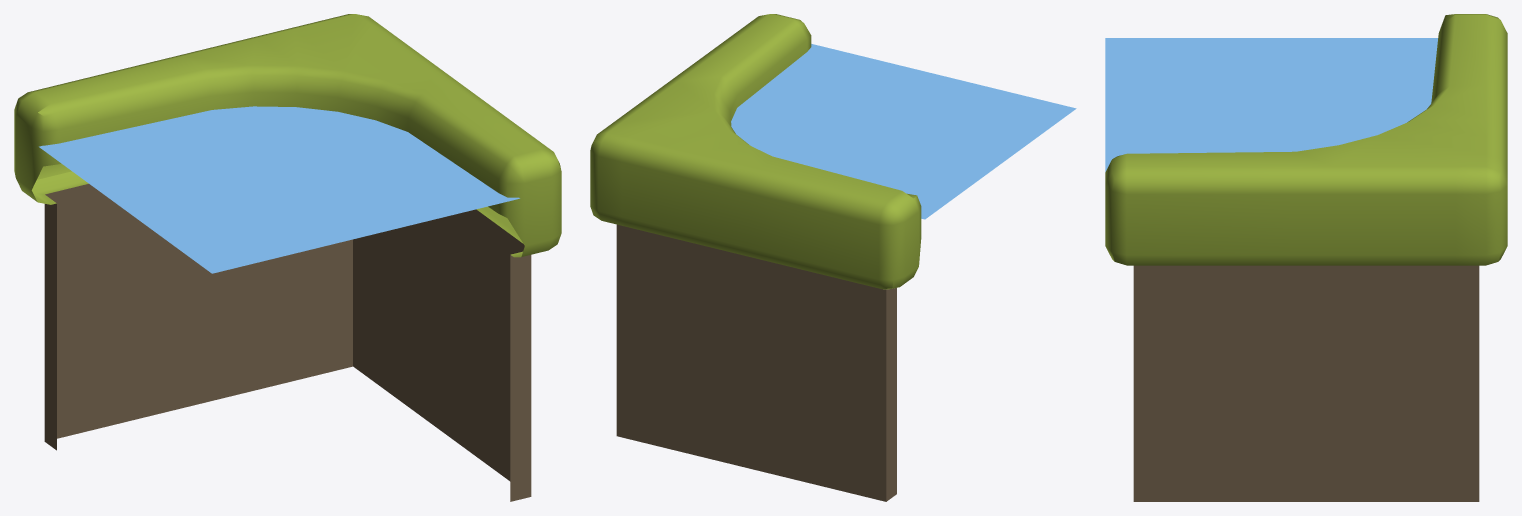
Rendered from Bloco_Rio_Curva.fbx.
3 renders of one model, left to right at view 1: azimuth 30°, elevation 25°; view 2: azimuth 150°, elevation 25°; view 3: azimuth 270°, elevation 25°, orthographic. The views are drawn at different scales.
Visible parts, largest first — view 1: Bloco_Rio_Curva9; view 2: Bloco_Rio_Curva9; view 3: Bloco_Rio_Curva9.
Part boxes in pixels (x1,y1,x2,y2): Bloco_Rio_Curva9: (14,14,561,501); Bloco_Rio_Curva9: (590,14,1076,501); Bloco_Rio_Curva9: (1105,14,1507,501).
Size of the model in its own units: 240 by 223 by 240.
